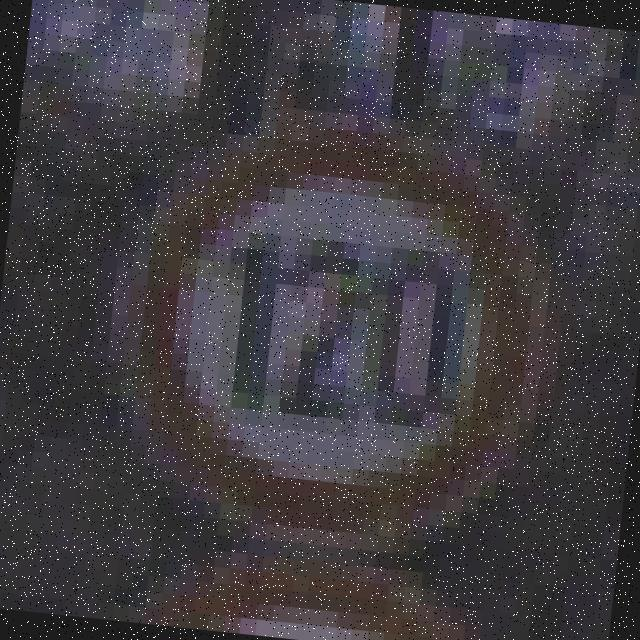Ograniczenie predkosci do 120: (121, 115, 554, 560)
